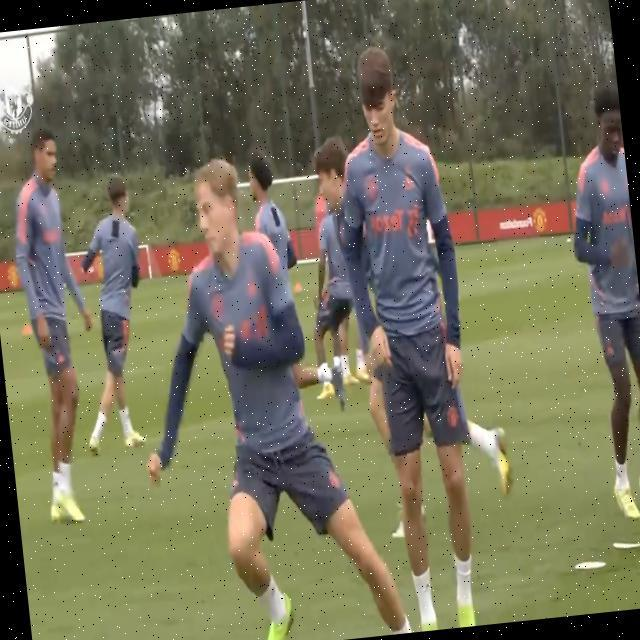Adidas: (402, 173, 415, 192)
